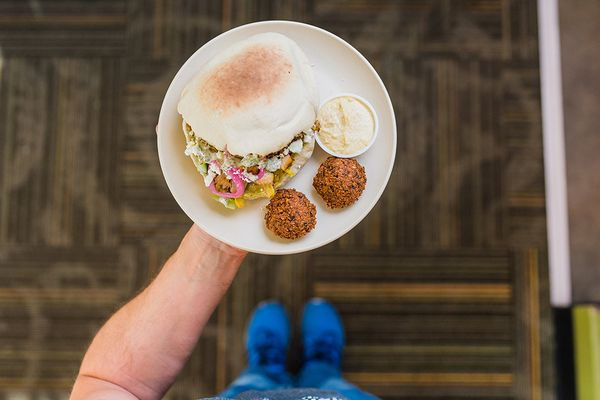curry: (26, 1, 598, 393)
